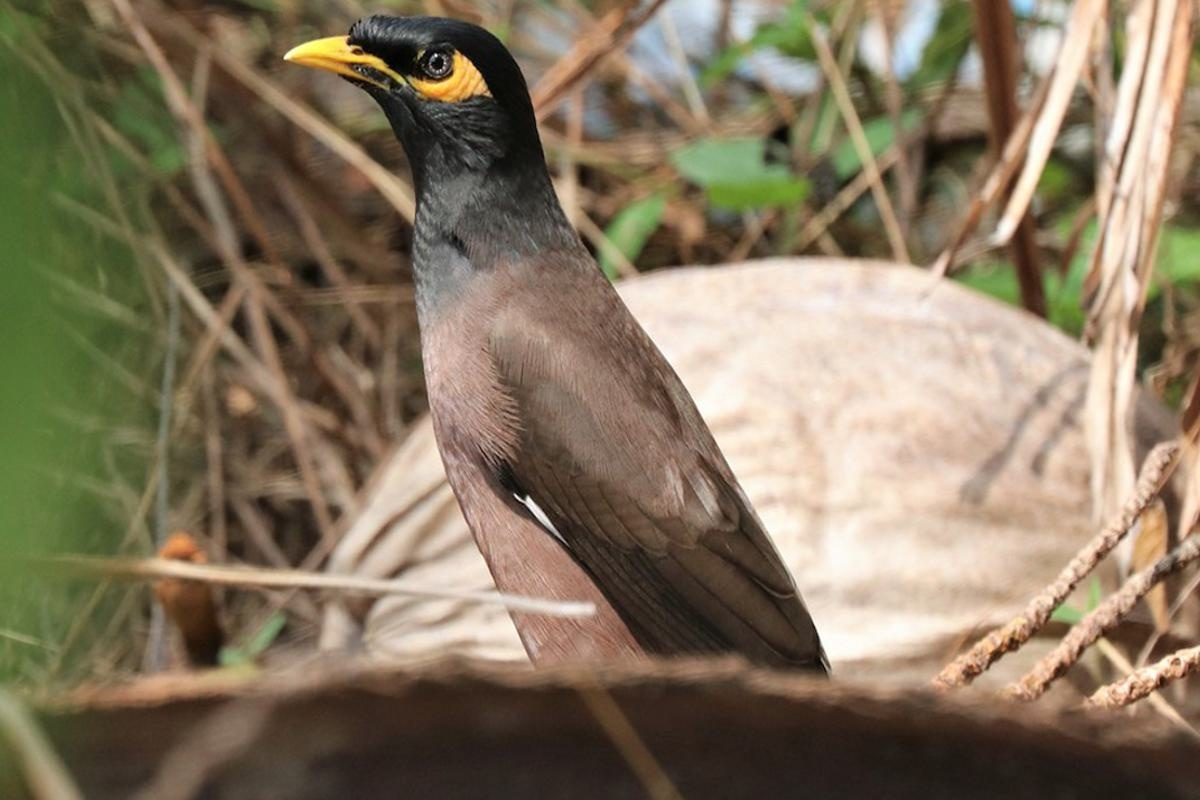myna: (271, 13, 895, 721)
